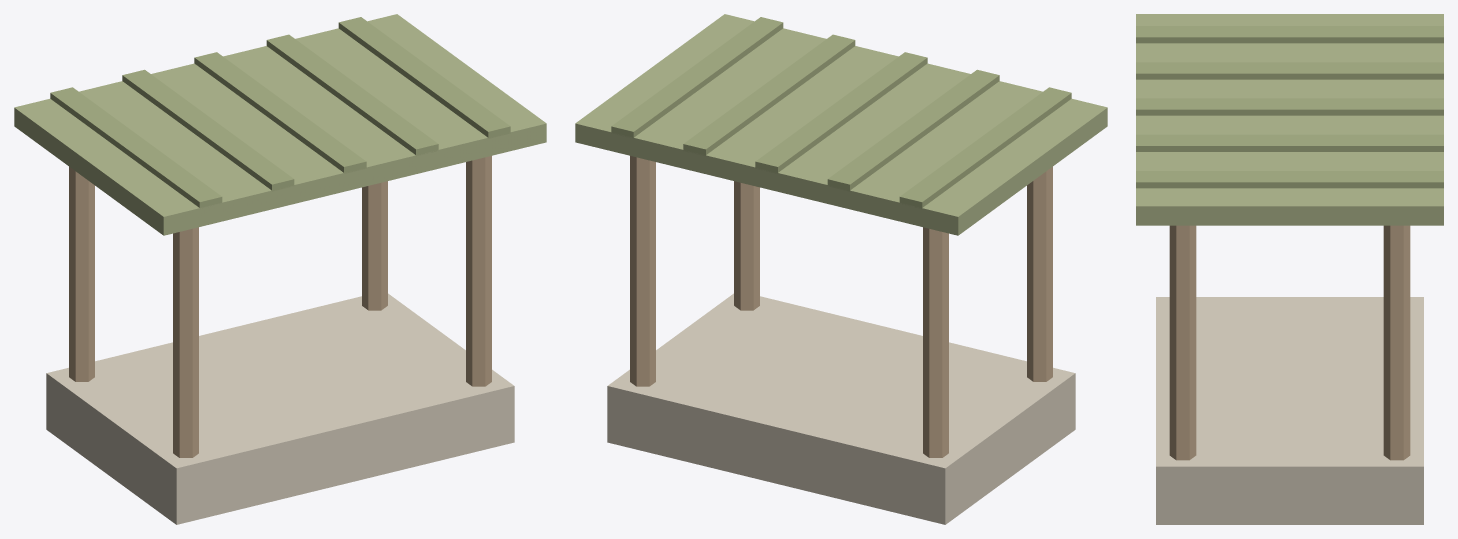
Rendered from suffa.glb.
3 views of the same model, side by side, from view 1: azimuth 30°, elevation 25°; view 2: azimuth 150°, elevation 25°; view 3: azimuth 270°, elevation 25° (orthographic). The views are drawn at different scales.
Visible parts, largest first — view 1: suffa; view 2: suffa; view 3: suffa.
Part boxes in pixels (x1=…): suffa: x1=14, y1=14, x2=546, y2=524; suffa: x1=575, y1=14, x2=1107, y2=524; suffa: x1=1136, y1=14, x2=1443, y2=524.
Size of the model in its own units: 1.7 by 1.39 by 1.15.
